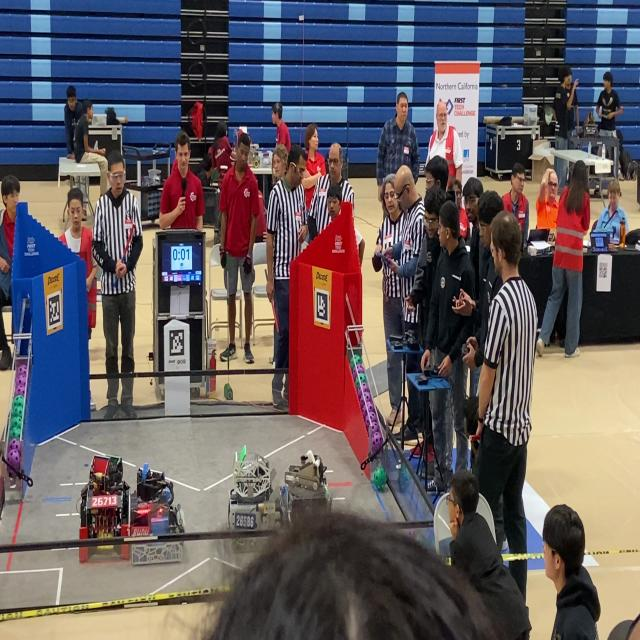artifact_green: (398, 465, 410, 493), (372, 466, 386, 490), (351, 354, 362, 369), (224, 383, 233, 400), (12, 407, 23, 420), (11, 416, 22, 429), (356, 374, 366, 388), (13, 395, 24, 407), (10, 427, 21, 439), (12, 403, 23, 413)
artifact_purple: (372, 428, 383, 453), (7, 450, 20, 469), (364, 412, 374, 431), (369, 403, 378, 424), (10, 416, 22, 429), (369, 415, 379, 430), (8, 439, 20, 451), (356, 374, 366, 387), (12, 408, 23, 419), (13, 396, 24, 406), (18, 382, 26, 395), (366, 401, 374, 414), (361, 399, 367, 416), (15, 386, 25, 396), (17, 375, 27, 385), (16, 367, 26, 377), (363, 390, 372, 401), (357, 387, 364, 401), (15, 381, 25, 390), (17, 365, 26, 375), (355, 364, 365, 373), (16, 379, 26, 388), (363, 402, 369, 416), (352, 370, 359, 382), (365, 390, 372, 402), (19, 367, 27, 377), (363, 382, 370, 393), (360, 400, 365, 413), (17, 390, 23, 394)
